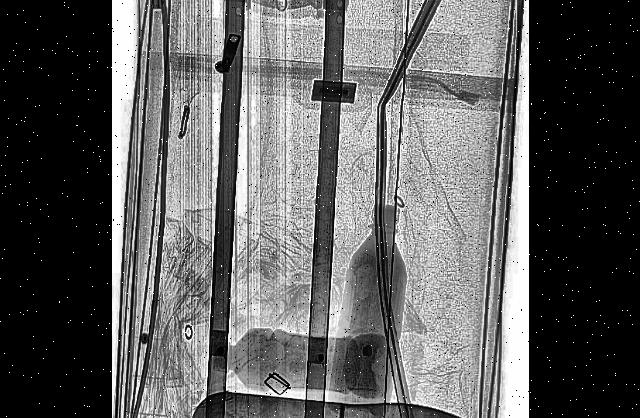Knife: (189, 379, 470, 418)
